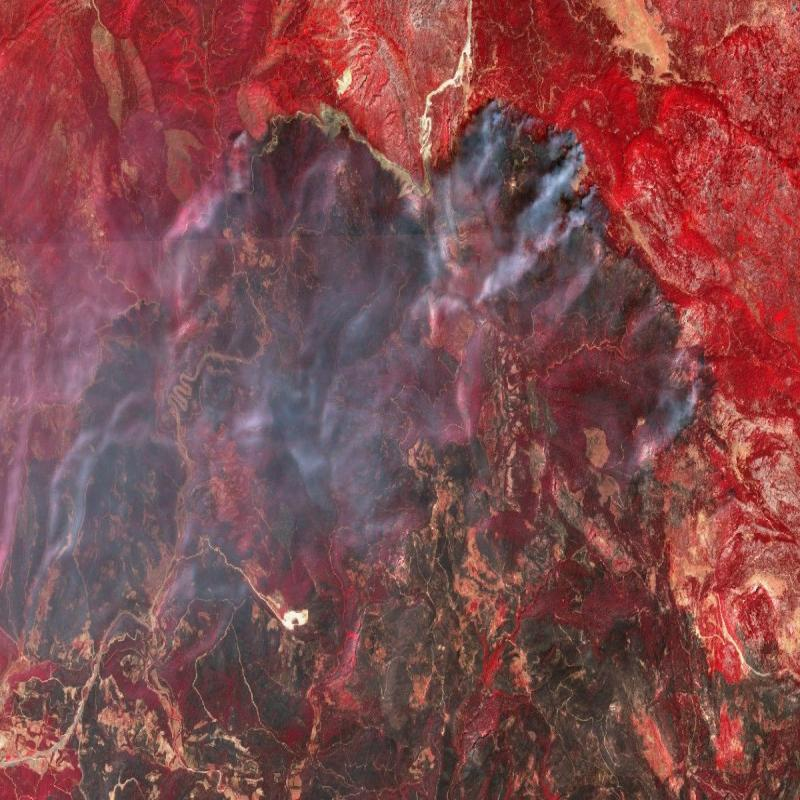fire: (162, 95, 356, 336), (451, 83, 618, 296)
